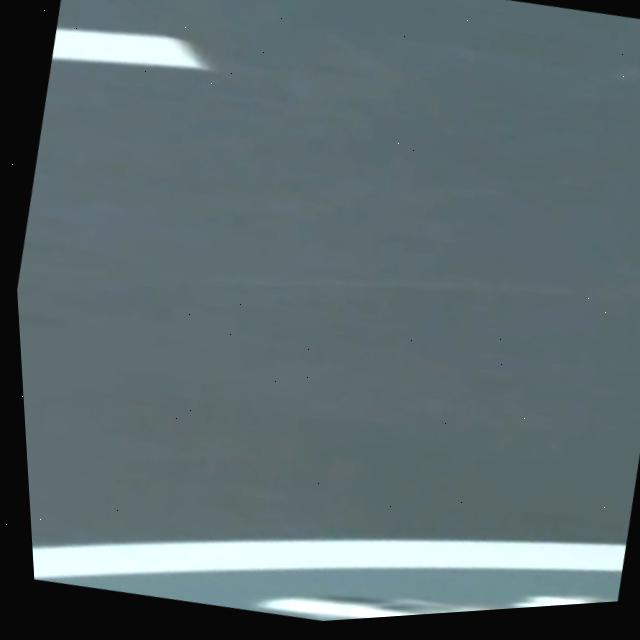center: (51, 28, 209, 68)
left: (32, 538, 626, 579)
